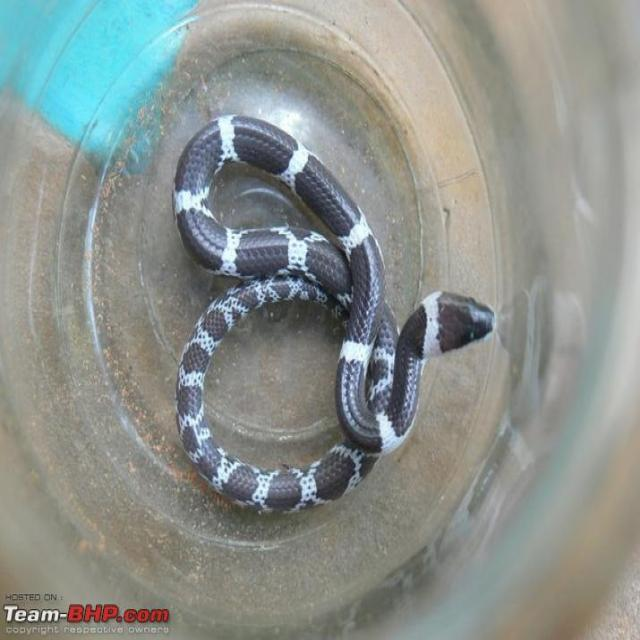Snake: (170, 111, 495, 514)
